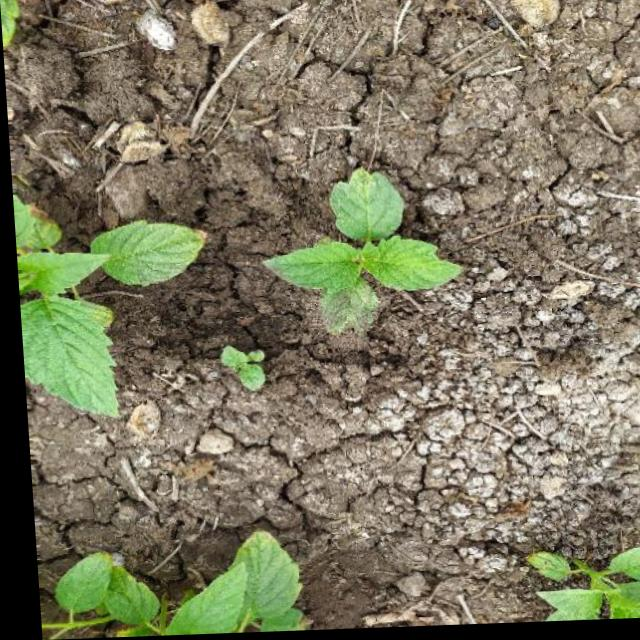crop: (10, 157, 215, 425), (257, 165, 466, 361)
